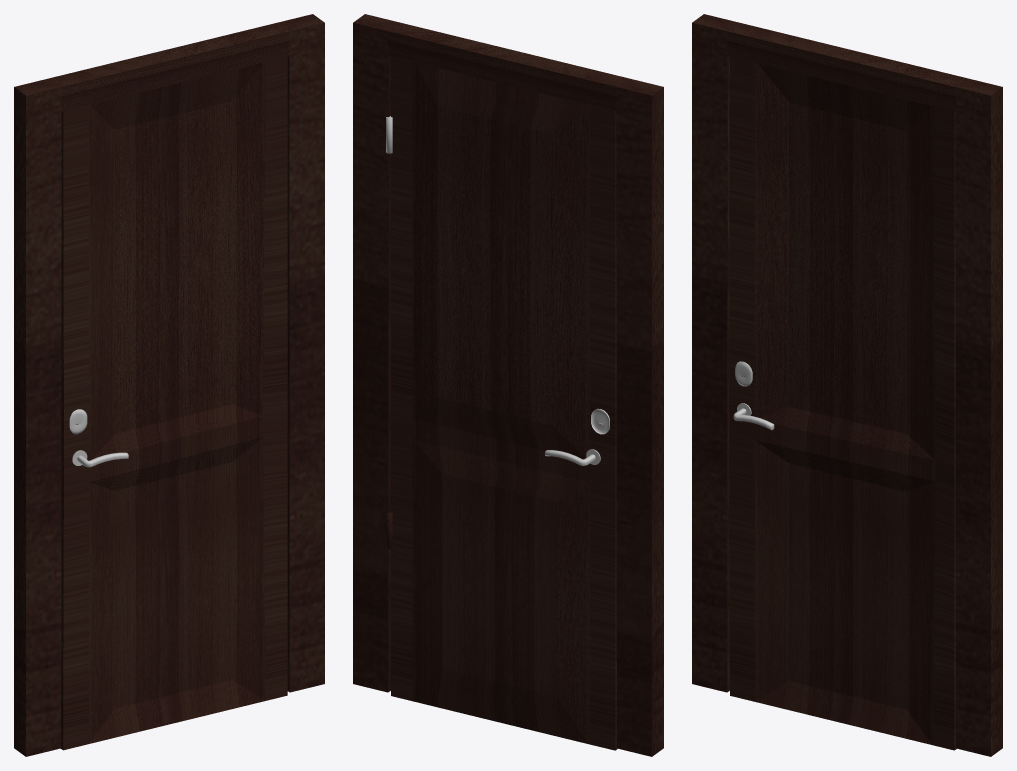
File: Door.fbx
3 renders of one model, left to right at view 1: azimuth 30°, elevation 25°; view 2: azimuth 150°, elevation 25°; view 3: azimuth 330°, elevation 25°, orthographic.
Parts seen in each view (by area): view 1: Door, Door.001, 01_low.001; view 2: Door, Door.001; view 3: Door, Door.001.
Part boxes in pixels (box(x1,y1,x2,y2)): Door: box(61, 56, 287, 750); Door.001: box(14, 14, 324, 756); 01_low.001: box(72, 450, 128, 467); Door: box(391, 56, 617, 750); Door.001: box(353, 14, 663, 756); Door: box(729, 57, 956, 750); Door.001: box(692, 14, 1002, 756).
Size of the model in its own units: 345 by 733 by 67.88.
2 materials, 1 textured.
